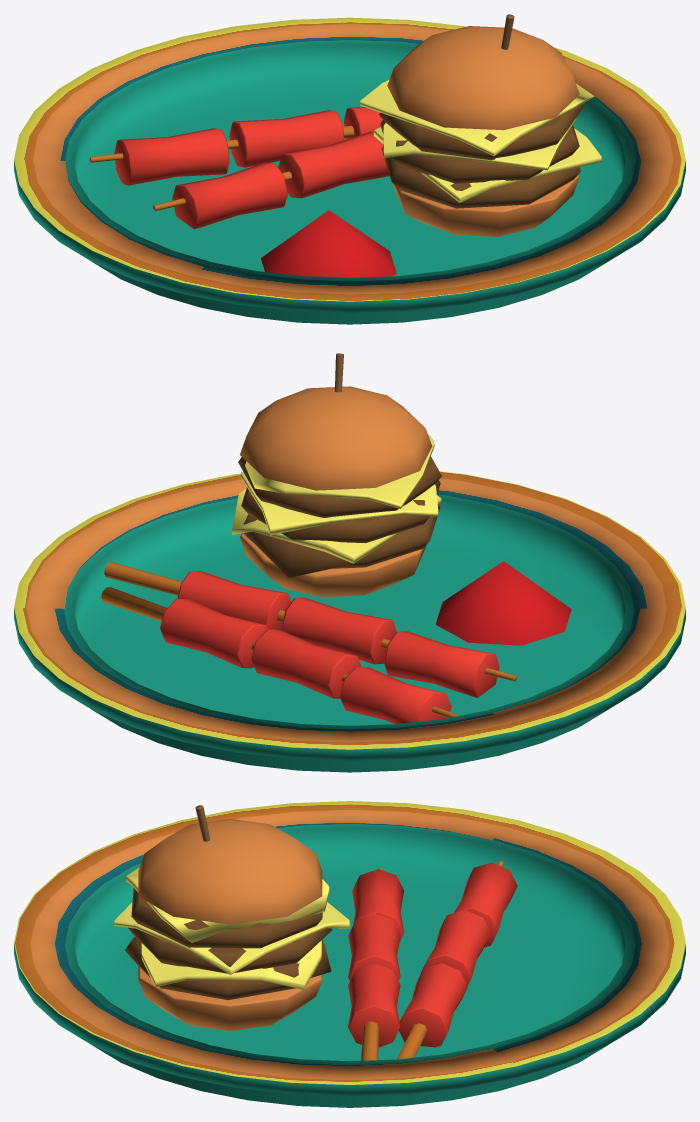
Rendered from SM_Food_4.fbx.
3 views of the same model, one above another, from view 1: azimuth 30°, elevation 25°; view 2: azimuth 150°, elevation 25°; view 3: azimuth 270°, elevation 25° (orthographic).
Parts seen in each view (by area): view 1: SM_Food_4_LOD0; view 2: SM_Food_4_LOD0; view 3: SM_Food_4_LOD0.
Part boxes in pixels (x1,y1,x2,y2): SM_Food_4_LOD0: [14, 14, 685, 324]; SM_Food_4_LOD0: [14, 353, 685, 772]; SM_Food_4_LOD0: [14, 801, 685, 1107].
Bounding box in the file's own units: 46.54 × 46.54 × 16.9.
1 material, 1 textured.
